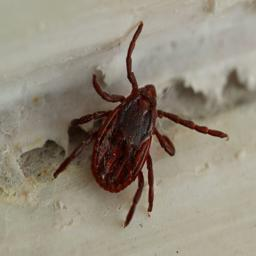Rhipicephalus sanguineus: (52, 20, 229, 229)
